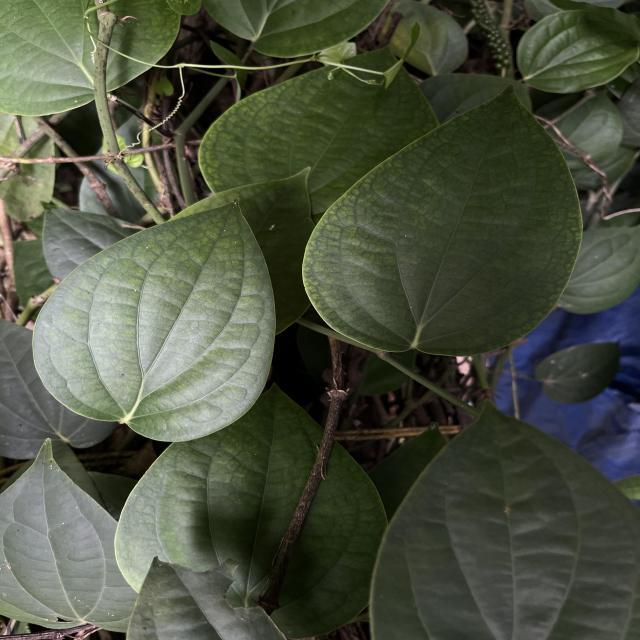Piper nigrum: (300, 79, 587, 359), (31, 195, 279, 443)
